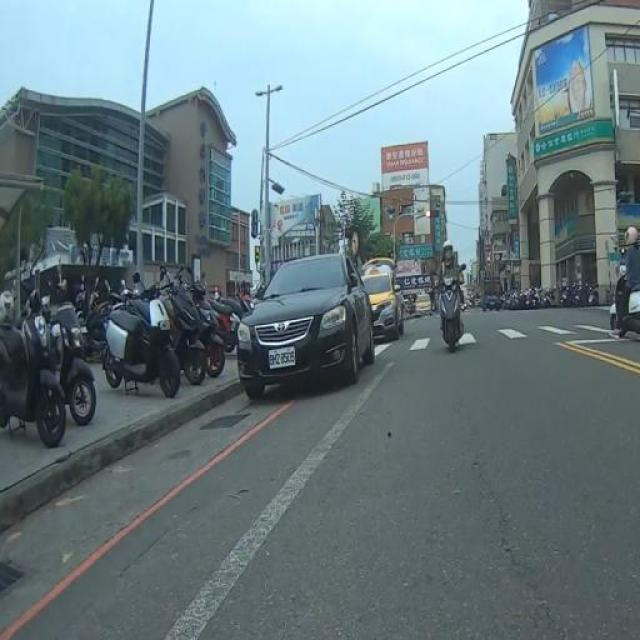Legalparking: (0, 258, 249, 432)
illegalparking: (238, 254, 402, 396)
